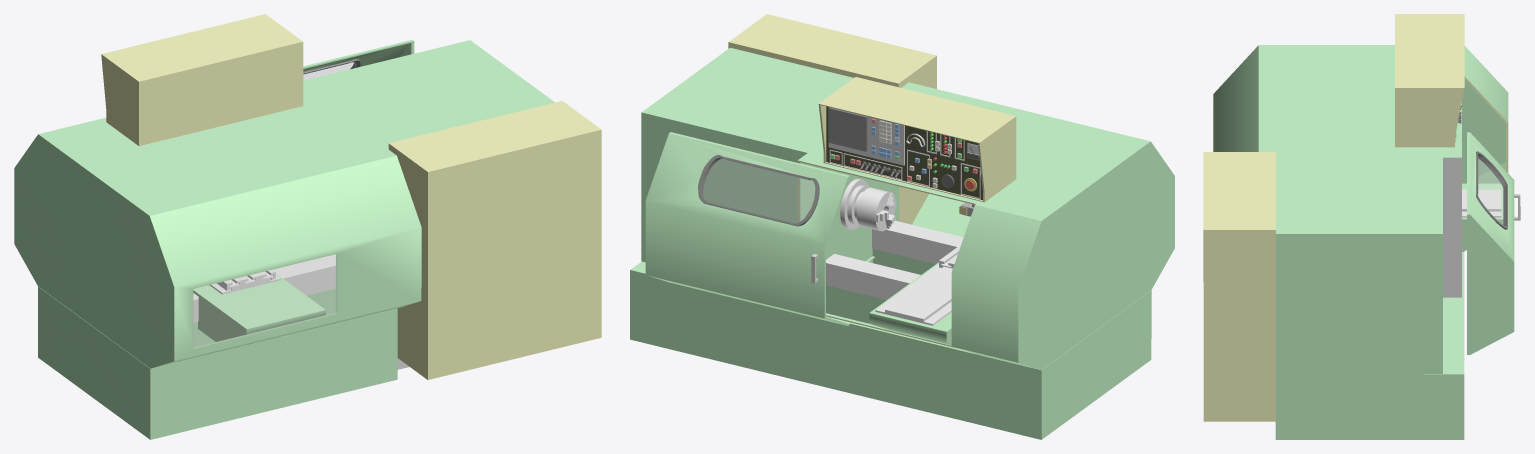
3 renders of one model, left to right at view 1: azimuth 30°, elevation 25°; view 2: azimuth 150°, elevation 25°; view 3: azimuth 270°, elevation 25°, orthographic. The views are drawn at different scales.
Parts seen in each view (by area): view 1: Shape_IndexedFaceSet.128, Shape_IndexedFaceSet.129, Shape_IndexedFaceSet.123, Shape_IndexedFaceSet.101, Shape_IndexedFaceSet, Shape_IndexedFaceSet.116, Shape_IndexedFaceSet.119, Shape_IndexedFaceSet.003, Shape_IndexedFaceSet.118; view 2: Shape_IndexedFaceSet.128, Shape_IndexedFaceSet.123, Shape_IndexedFaceSet.003, Shape_IndexedFaceSet.101, Shape_IndexedFaceSet.129, Shape_IndexedFaceSet.002, Shape_IndexedFaceSet.100, Shape_IndexedFaceSet.117, Shape_IndexedFaceSet.120, Shape_IndexedFaceSet.119, Shape_IndexedFaceSet.116, Shape_IndexedFaceSet.103 (+6 smaller); view 3: Shape_IndexedFaceSet.128, Shape_IndexedFaceSet.129, Shape_IndexedFaceSet.123, Shape_IndexedFaceSet.101, Shape_IndexedFaceSet.003, Shape_IndexedFaceSet.124, Shape_IndexedFaceSet.002, Shape_IndexedFaceSet.004, Shape_IndexedFaceSet.117, Shape_IndexedFaceSet.116.
Boxes of the visible parts, x1,y1,x2,y2 form: Shape_IndexedFaceSet.128: (14, 40, 554, 368); Shape_IndexedFaceSet.129: (388, 101, 601, 379); Shape_IndexedFaceSet.123: (38, 286, 397, 439); Shape_IndexedFaceSet.101: (101, 14, 303, 145); Shape_IndexedFaceSet: (193, 254, 336, 348); Shape_IndexedFaceSet.116: (193, 273, 325, 341); Shape_IndexedFaceSet.119: (193, 254, 335, 322); Shape_IndexedFaceSet.003: (303, 39, 414, 72); Shape_IndexedFaceSet.118: (193, 288, 335, 347); Shape_IndexedFaceSet.128: (641, 47, 1174, 369); Shape_IndexedFaceSet.123: (630, 260, 1151, 439); Shape_IndexedFaceSet.003: (645, 132, 849, 325); Shape_IndexedFaceSet.101: (818, 77, 1016, 202); Shape_IndexedFaceSet.129: (728, 14, 936, 224); Shape_IndexedFaceSet.002: (703, 158, 814, 222); Shape_IndexedFaceSet.100: (826, 106, 982, 199); Shape_IndexedFaceSet.117: (875, 264, 952, 325); Shape_IndexedFaceSet.120: (826, 254, 920, 299); Shape_IndexedFaceSet.119: (872, 220, 963, 263); Shape_IndexedFaceSet.116: (869, 262, 951, 345); Shape_IndexedFaceSet.103: (828, 107, 867, 151); Shape_IndexedFaceSet.128: (1213, 45, 1508, 374); Shape_IndexedFaceSet.129: (1203, 152, 1275, 421); Shape_IndexedFaceSet.123: (1275, 252, 1464, 439); Shape_IndexedFaceSet.101: (1395, 14, 1464, 147); Shape_IndexedFaceSet.003: (1467, 132, 1514, 354); Shape_IndexedFaceSet.124: (1443, 157, 1461, 297); Shape_IndexedFaceSet.002: (1478, 159, 1503, 224); Shape_IndexedFaceSet.004: (1476, 151, 1507, 229); Shape_IndexedFaceSet.117: (1462, 189, 1501, 217); Shape_IndexedFaceSet.116: (1462, 183, 1503, 251).
Bounding box in the file's own units: 37.15 × 24.23 × 26.23.
